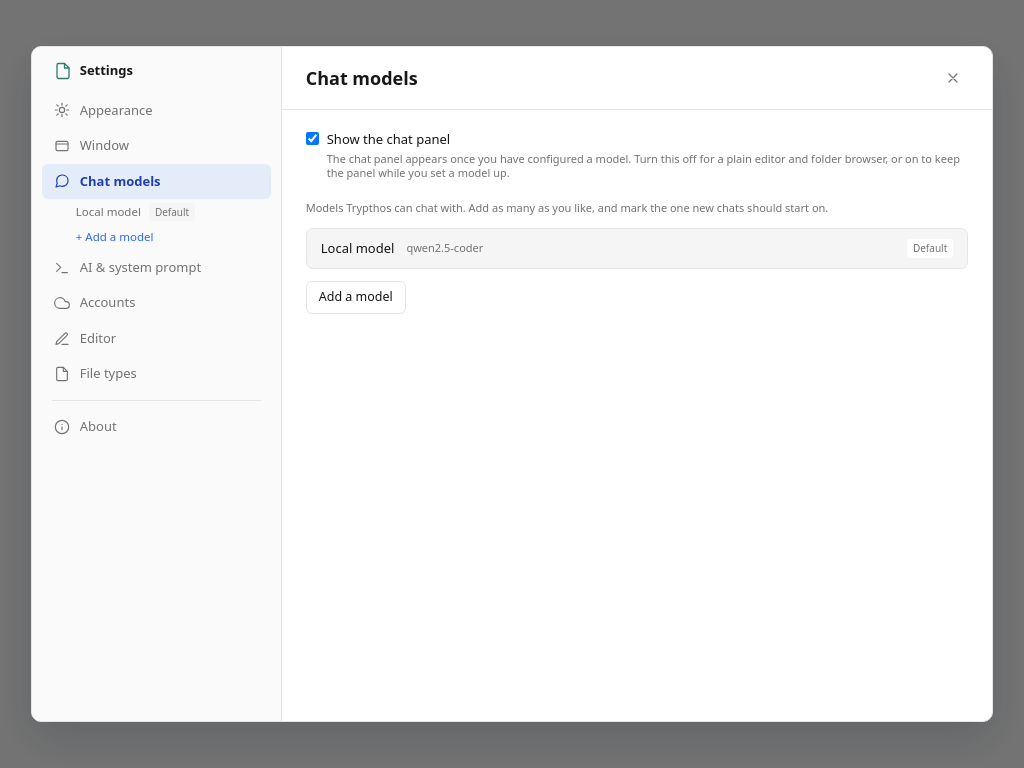
Test case: SettingsDialog: API keys › says a key is stored, without showing it
Click the button with aria-label "Edit Local model". click: (156, 212)
box: [42,199,271,225]
(page scrolled)
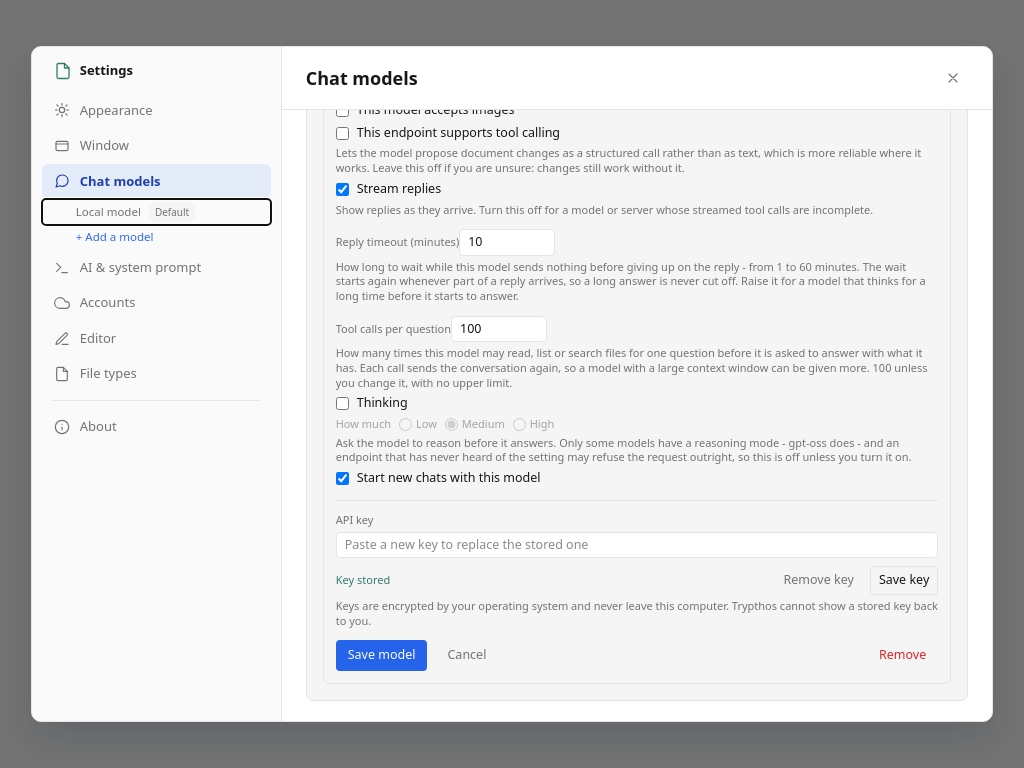
expect the text "Key stored" is shown: met, box [336,573,390,588]
expect the password field labelled "API key" is empty: met, box [336,532,938,558]
